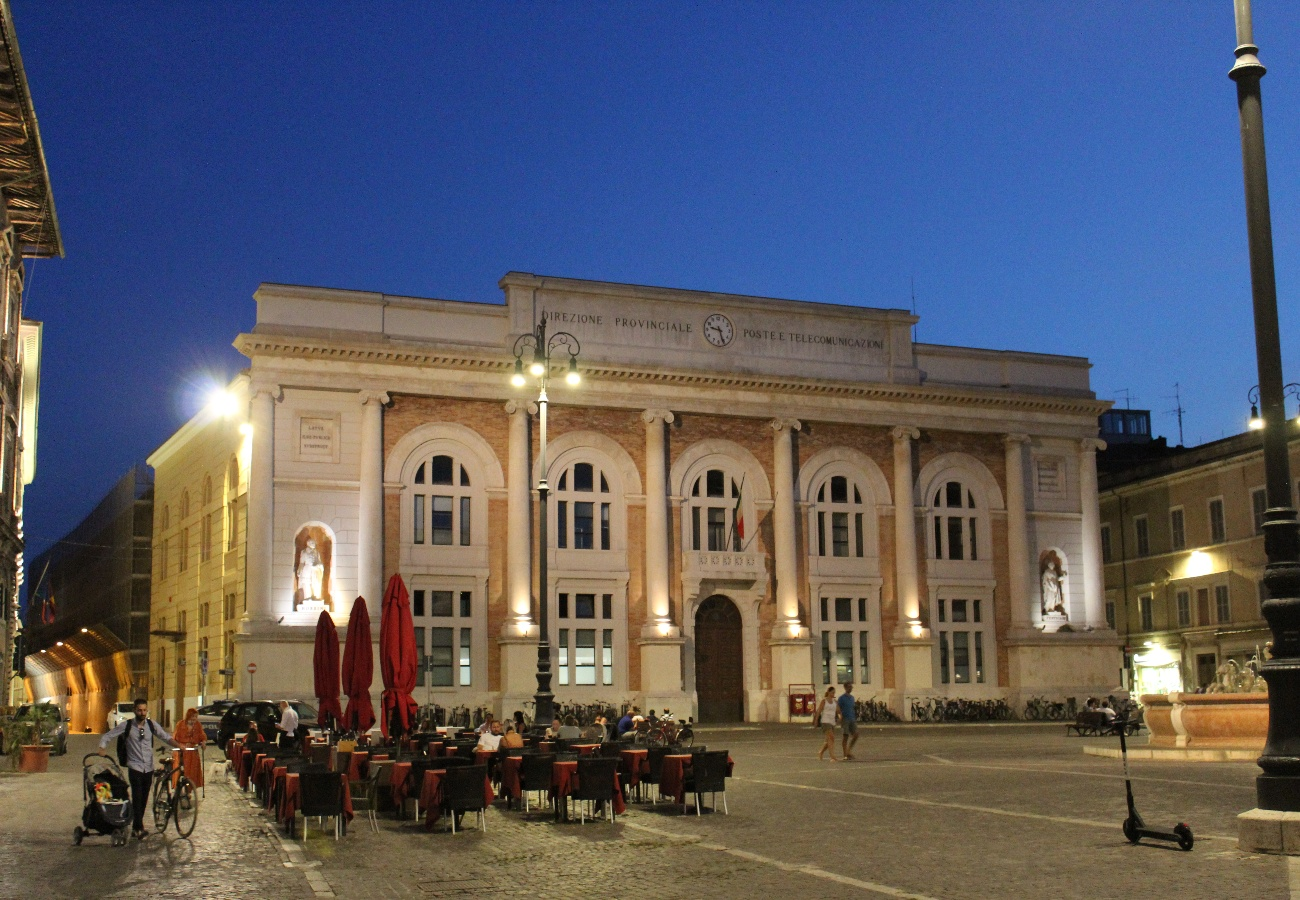Palazzo delle Poste: (233, 272, 1110, 720)
